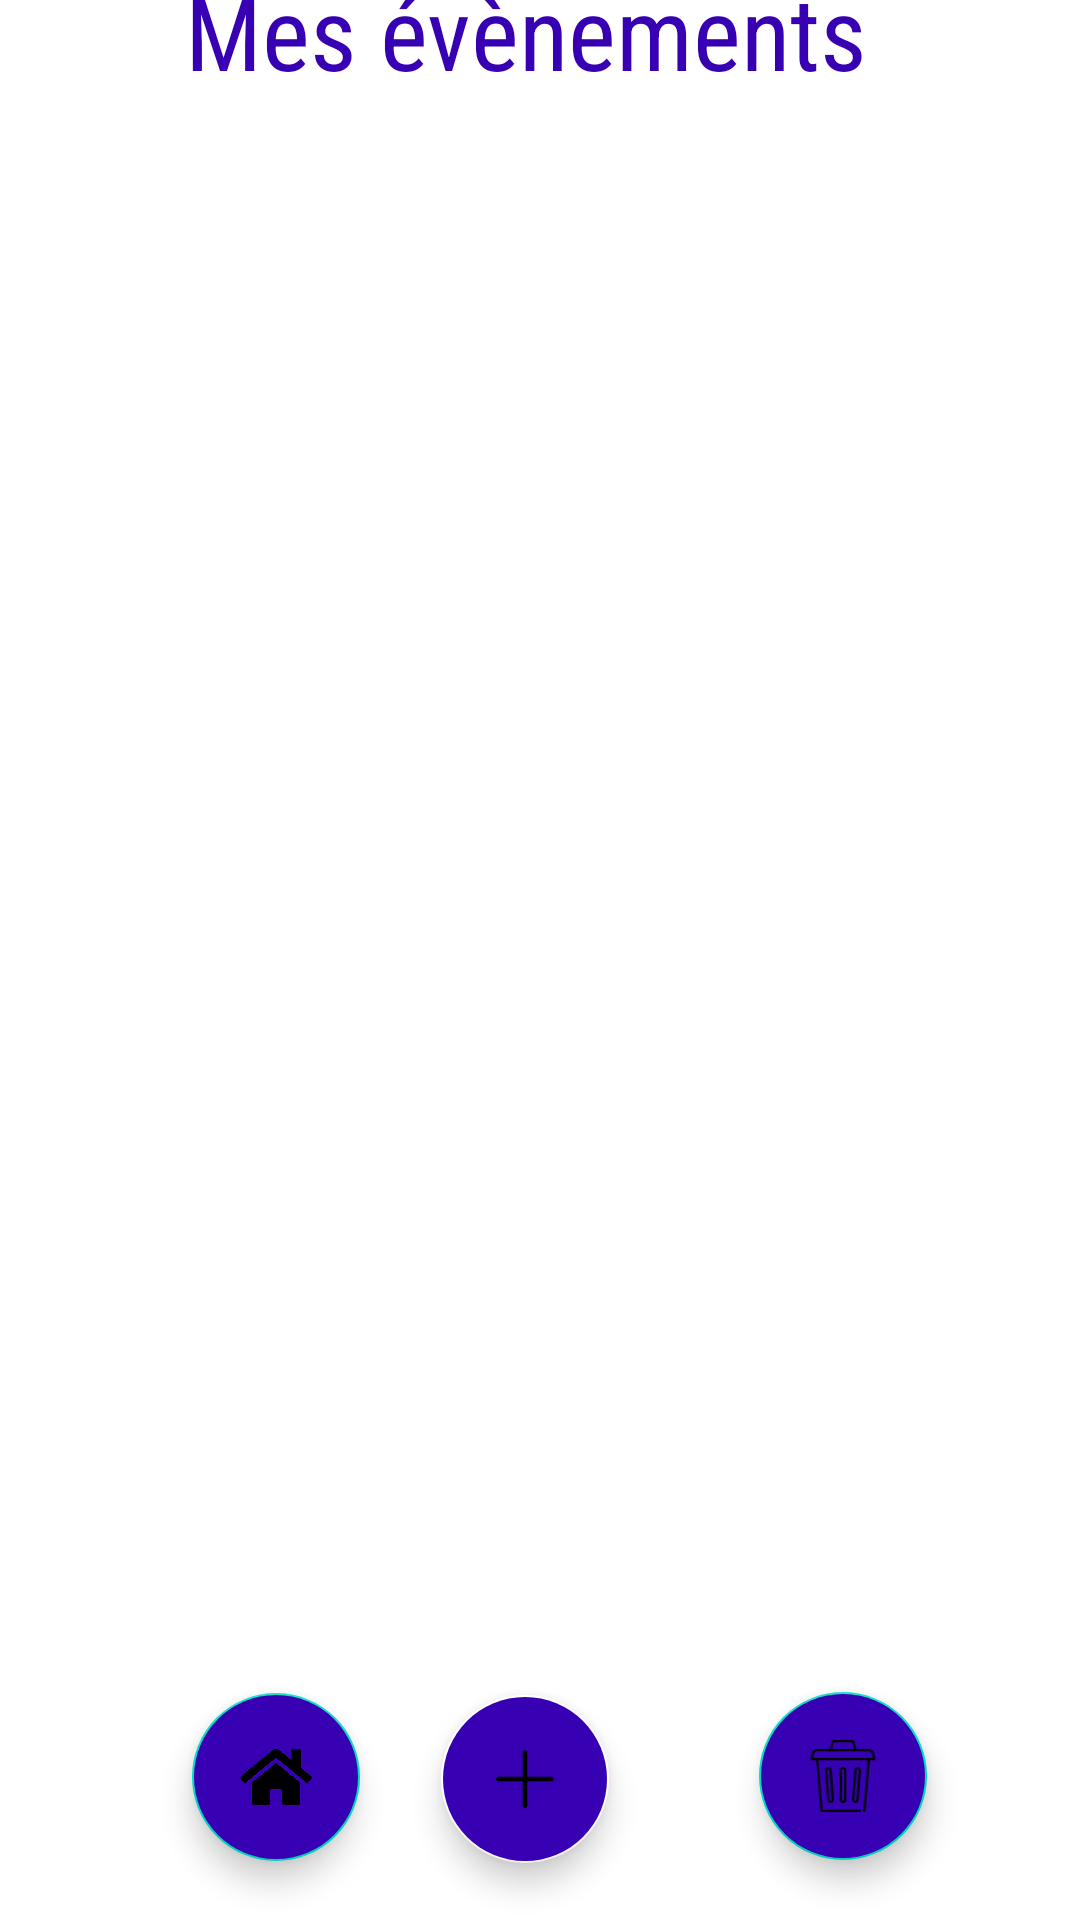

Named icons in this screenshot (1080 × 1920) and their centers, (x,y):
accueil: (276,1777)
add: (526,1779)
bin: (843,1776)
